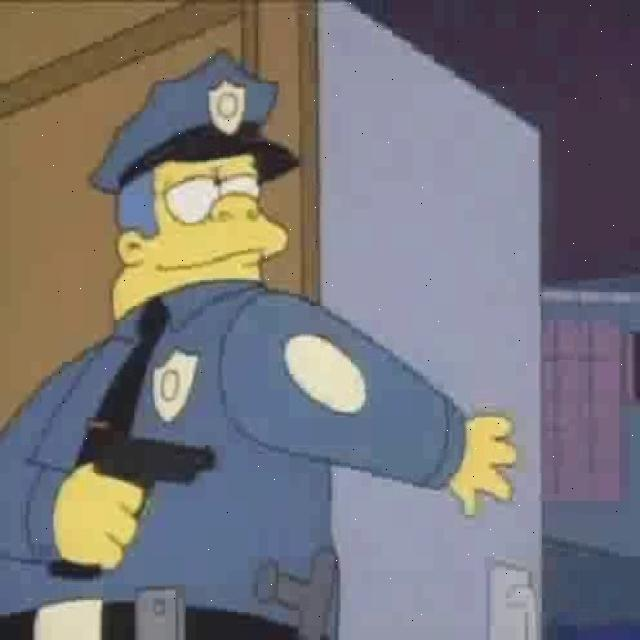Chief Wiggam: (86, 49, 308, 327)
